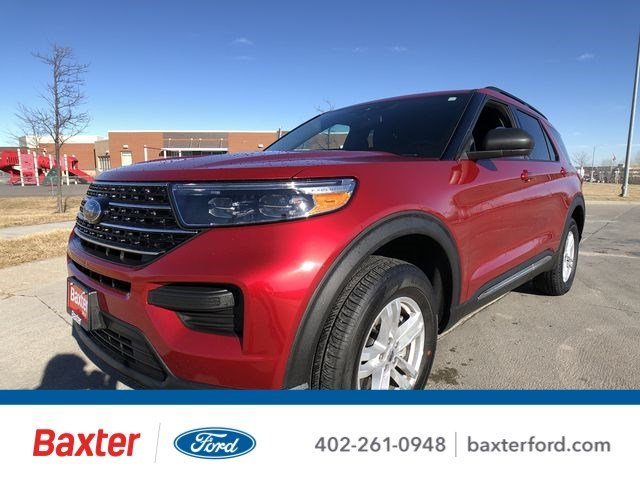Ford Explorer: (66, 85, 585, 423)
